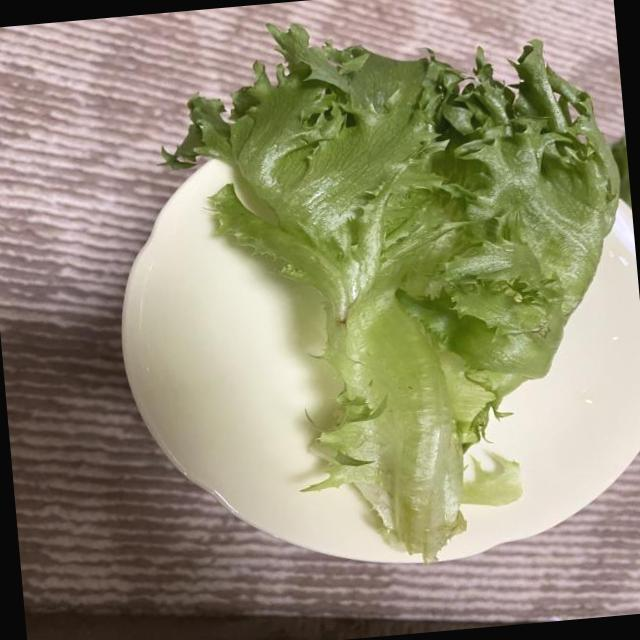Lettuce-Ready-to-Harvest: (162, 26, 619, 560)
